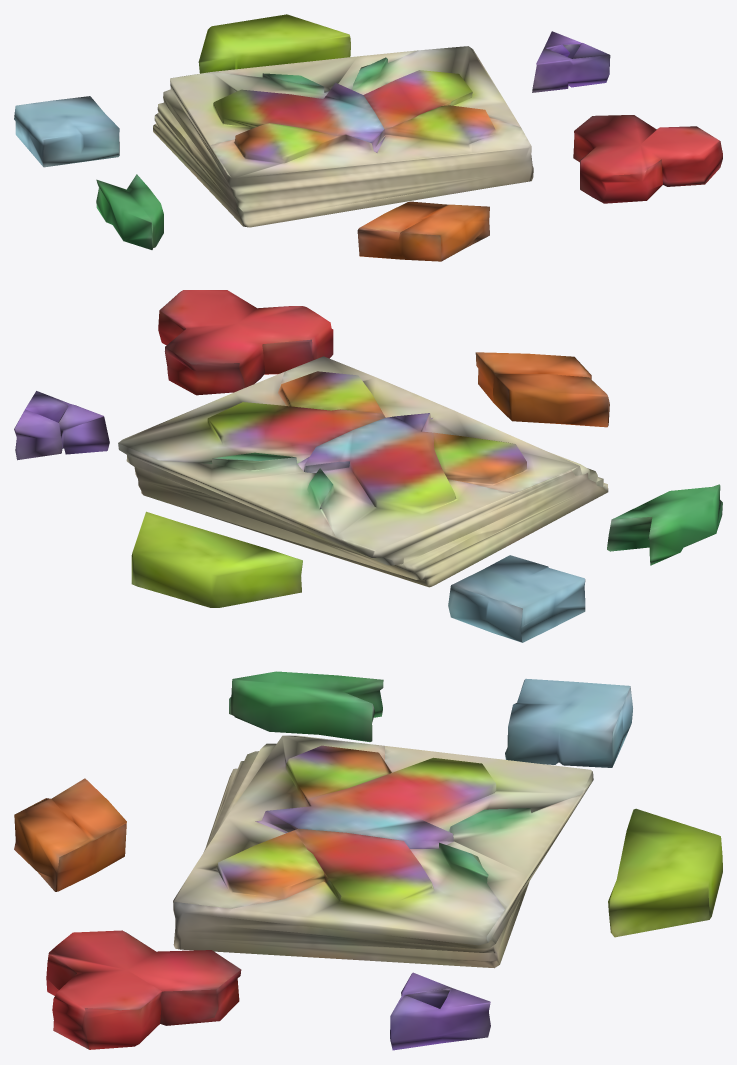
File: Melissa_Doug_Pattern_Blocks_and_Boards-medium.glb
3 renders of one model, top to bottom at view 1: azimuth 30°, elevation 25°; view 2: azimuth 150°, elevation 25°; view 3: azimuth 270°, elevation 25°, orthographic. The views are drawn at different scales.
Parts seen in each view (by area): view 1: Melissa_Doug_Pattern_Blocks_and_Boards; view 2: Melissa_Doug_Pattern_Blocks_and_Boards; view 3: Melissa_Doug_Pattern_Blocks_and_Boards.
Part boxes in pixels (box(x1,y1,x2,y2)): Melissa_Doug_Pattern_Blocks_and_Boards: box(14, 14, 722, 261); Melissa_Doug_Pattern_Blocks_and_Boards: box(14, 290, 722, 642); Melissa_Doug_Pattern_Blocks_and_Boards: box(14, 671, 722, 1050).
Size of the model in its own units: 0.3814 by 0.0308 by 0.3352.
Materials: 1 (1 with a texture image).
